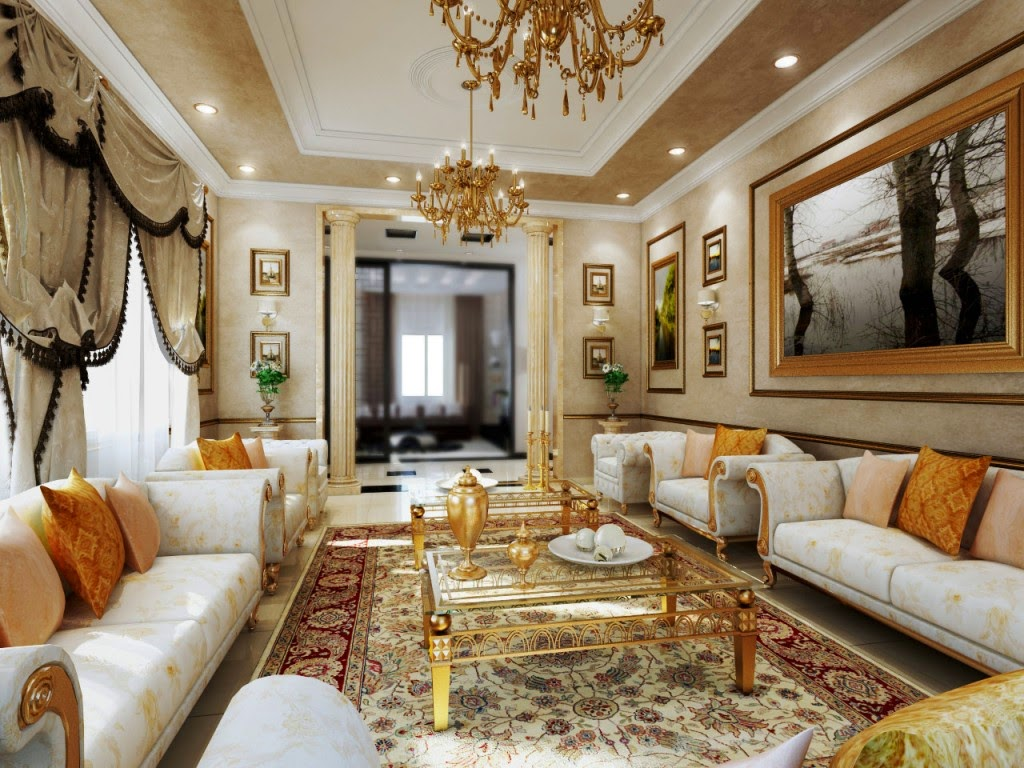bantal: (28, 477, 127, 608), (903, 446, 975, 547), (837, 448, 903, 526), (707, 423, 767, 460), (192, 436, 247, 467)
foto: (246, 245, 293, 300), (250, 327, 291, 385), (578, 258, 619, 313), (699, 319, 730, 385), (699, 228, 731, 285), (581, 335, 616, 382)
lukisan: (761, 104, 1023, 380), (649, 252, 680, 376)
meja: (402, 487, 754, 706)
sova: (1, 477, 260, 762), (753, 455, 1024, 631), (641, 427, 807, 546), (162, 435, 315, 549)
tanaman: (249, 359, 279, 427)
